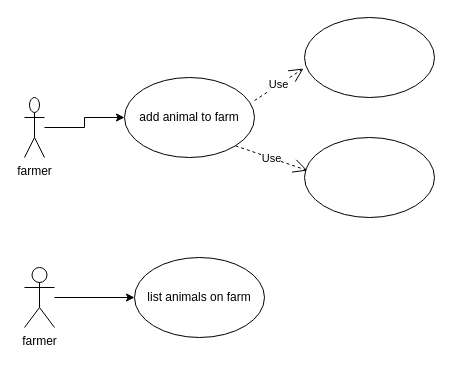
Some shapes in this 452 by 366 pixel diagram are drawn without their labels. Each missing label, with the centre of its shape:
"ceate and add chosen animal" goes at pixel 369 177.
"choose which animal" goes at pixel 369 57.
